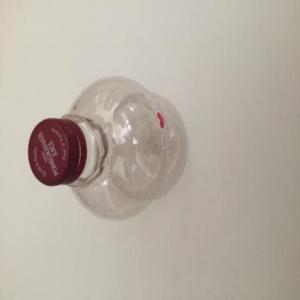Plastic-bottle: (27, 74, 189, 222)
